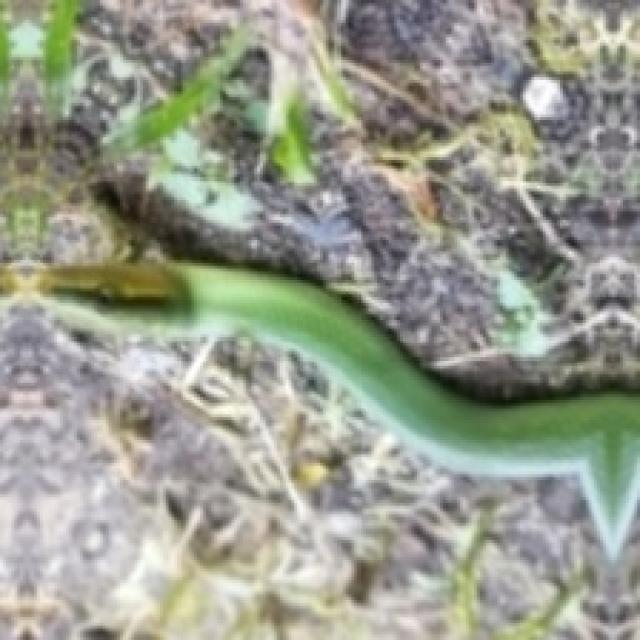red-tailed green ratsnake: (0, 261, 640, 558)
